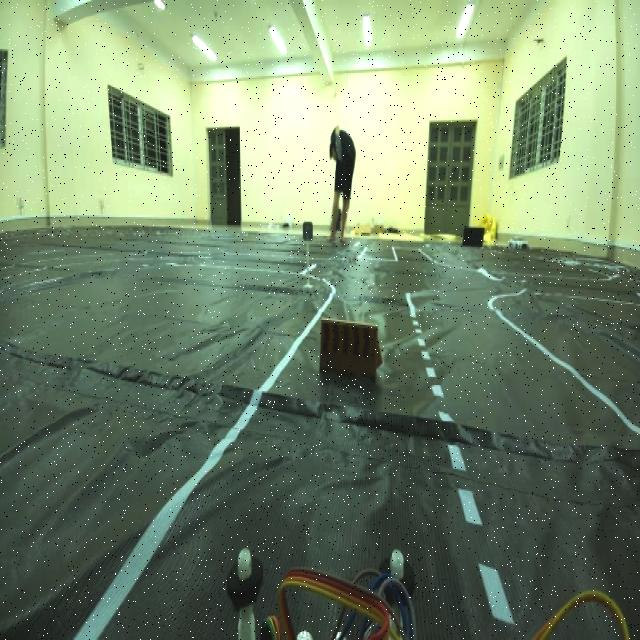roadblock: (314, 306, 384, 391)
